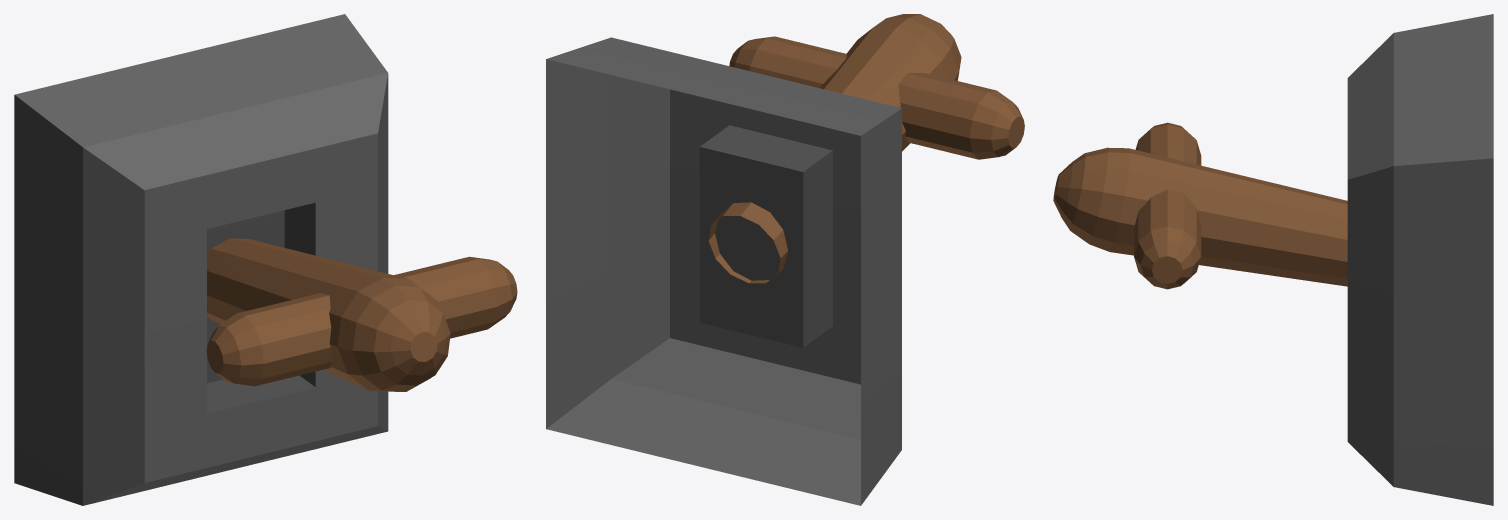
The model's file is Mini_Control_Button.fbx.
The picture shows the model from 3 angles, left to right: view 1: azimuth 30°, elevation 25°; view 2: azimuth 150°, elevation 25°; view 3: azimuth 270°, elevation 25°; orthographic projection. The views are drawn at different scales.
Visible parts, largest first — view 1: Mini_Control_Button, Mini_Control_Button.001; view 2: Mini_Control_Button, Mini_Control_Button.001; view 3: Mini_Control_Button, Mini_Control_Button.001.
Part boxes in pixels (x1,y1,x2,y2): Mini_Control_Button: (14, 14, 388, 505); Mini_Control_Button.001: (206, 238, 517, 391); Mini_Control_Button: (546, 37, 901, 505); Mini_Control_Button.001: (708, 14, 1024, 283); Mini_Control_Button: (1347, 14, 1493, 505); Mini_Control_Button.001: (1053, 122, 1347, 289).
Bounding box in the file's own units: 12.45 × 13.97 × 16.03.
Materials: 1 (1 with a texture image).
